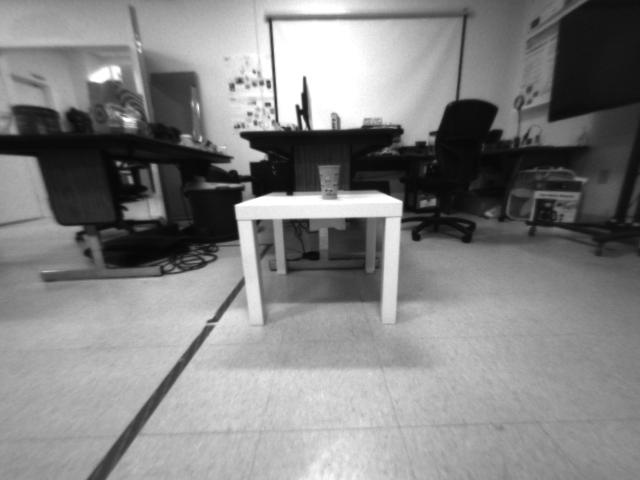coffee_cup: (316, 163, 342, 199)
